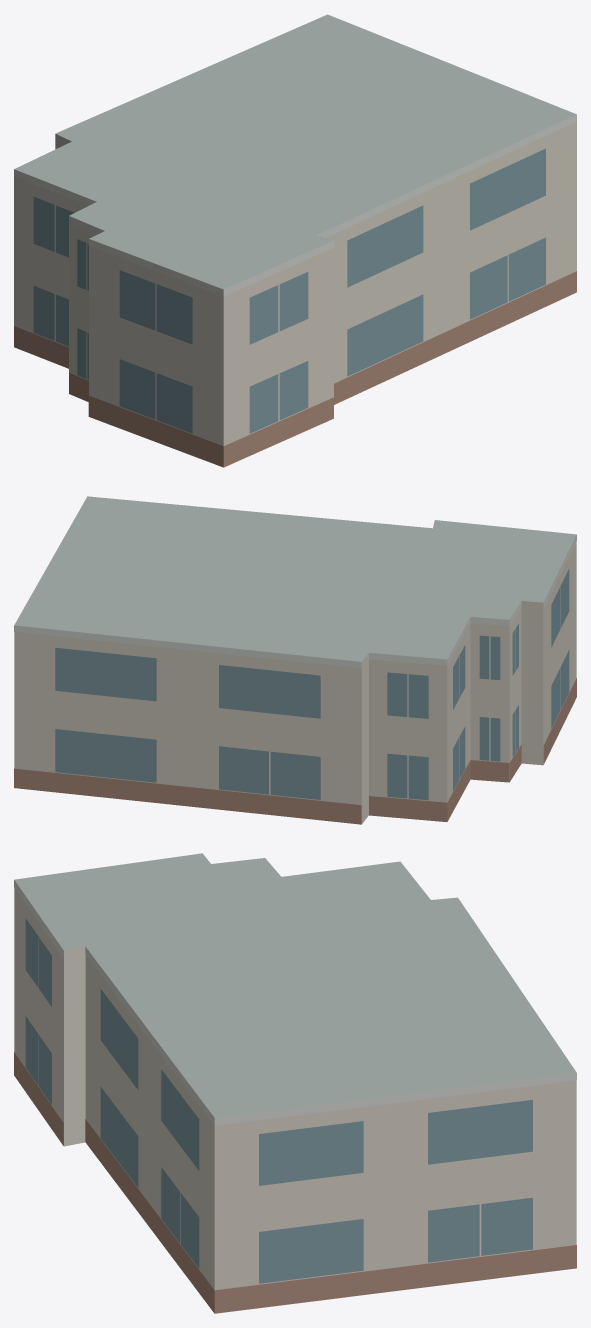
The model's file is survey-upis-32680076.glb.
3 renders of one model, top to bottom at view 1: azimuth 30°, elevation 25°; view 2: azimuth 150°, elevation 25°; view 3: azimuth 270°, elevation 25°, orthographic. The views are drawn at different scales.
Visible parts, largest first — view 1: survey-upis-32680076.tmp; view 2: survey-upis-32680076.tmp; view 3: survey-upis-32680076.tmp.
Boxes of the visible parts, bbox=[...] form: survey-upis-32680076.tmp: bbox=[14, 14, 576, 467]; survey-upis-32680076.tmp: bbox=[14, 496, 576, 824]; survey-upis-32680076.tmp: bbox=[14, 853, 576, 1313].
Size of the model in its own units: 17.71 by 6.1 by 15.91.
